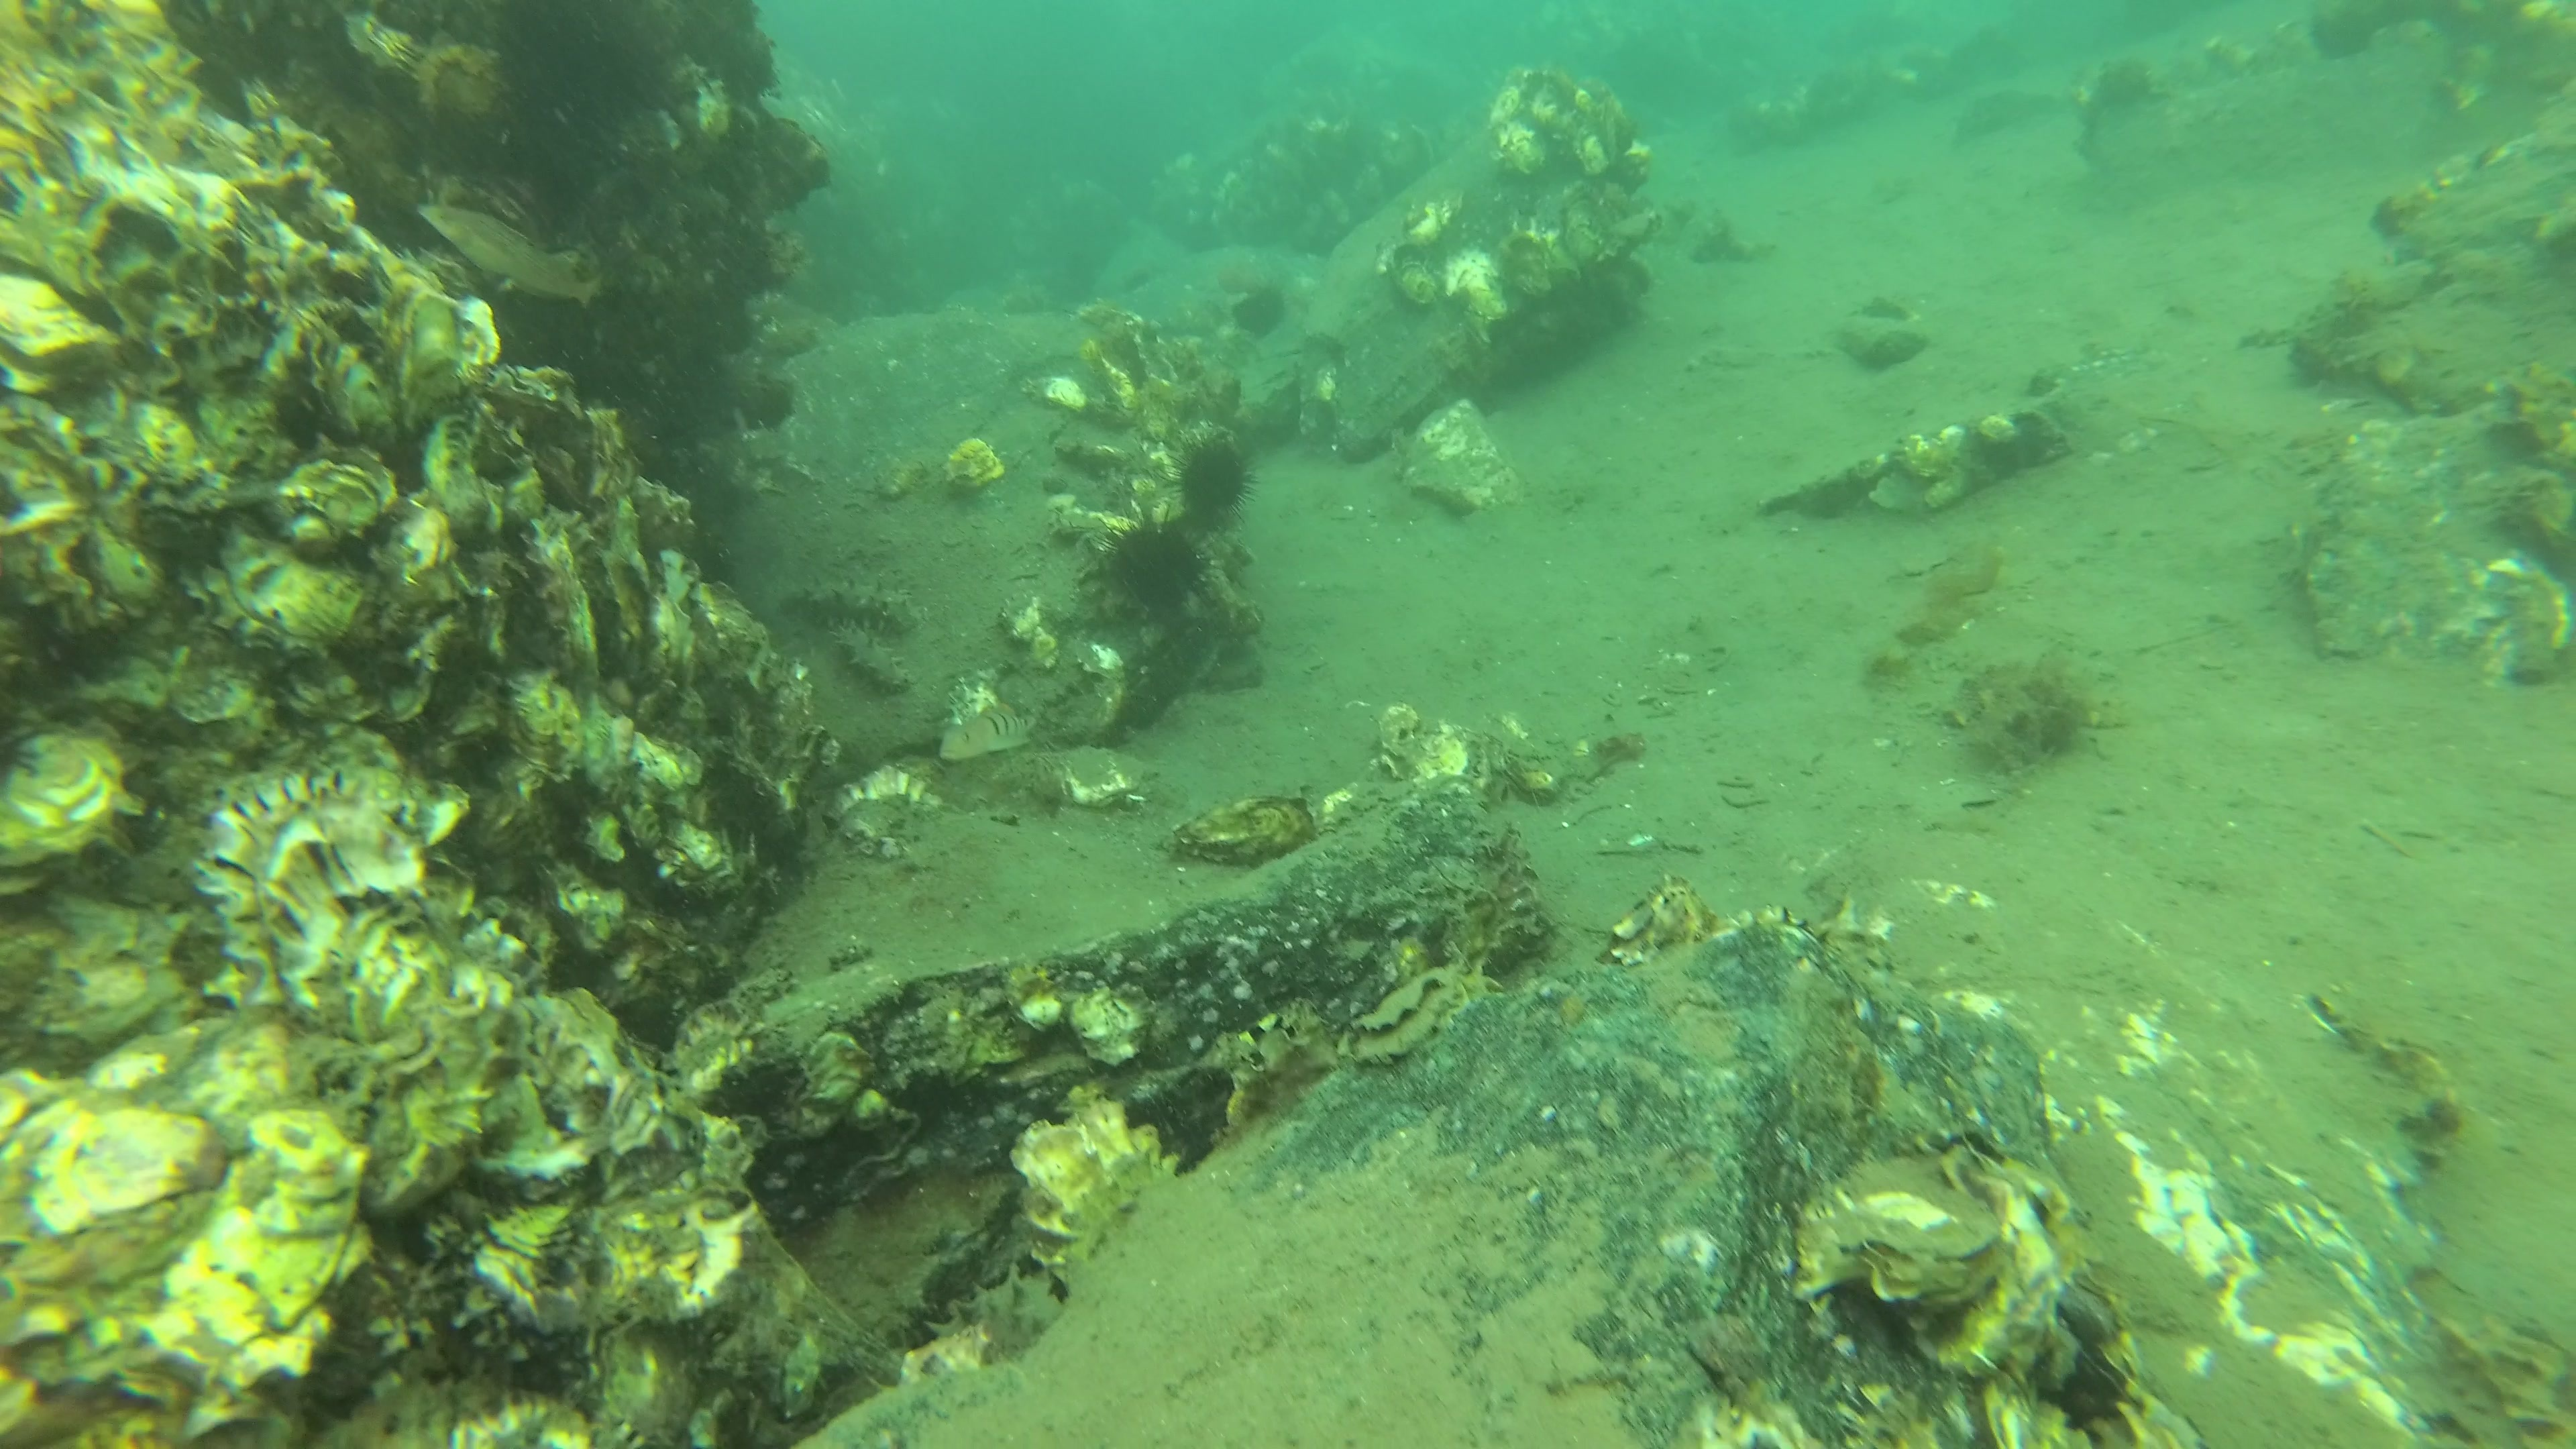echinus: (1092, 513, 1214, 625), (1162, 428, 1261, 538), (2309, 0, 2406, 111), (1215, 265, 1313, 375)
holothurian: (770, 570, 913, 633), (826, 619, 915, 706)
